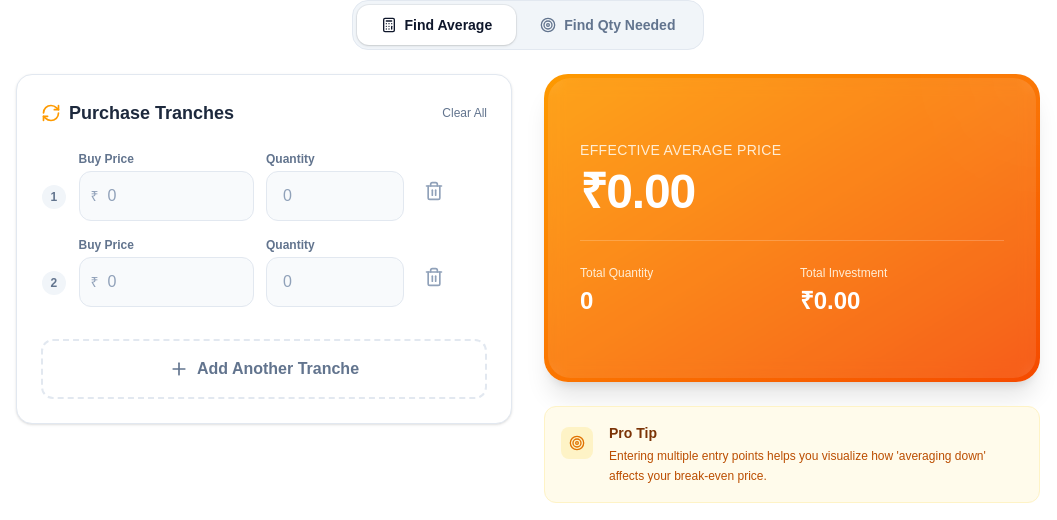
Test: StockAverageCalculator › switches to Target Averager mode
The image size is (1057, 520).
Step 1. Click the button "Find Qty Needed" → (608, 25), box [516,5,699,45]
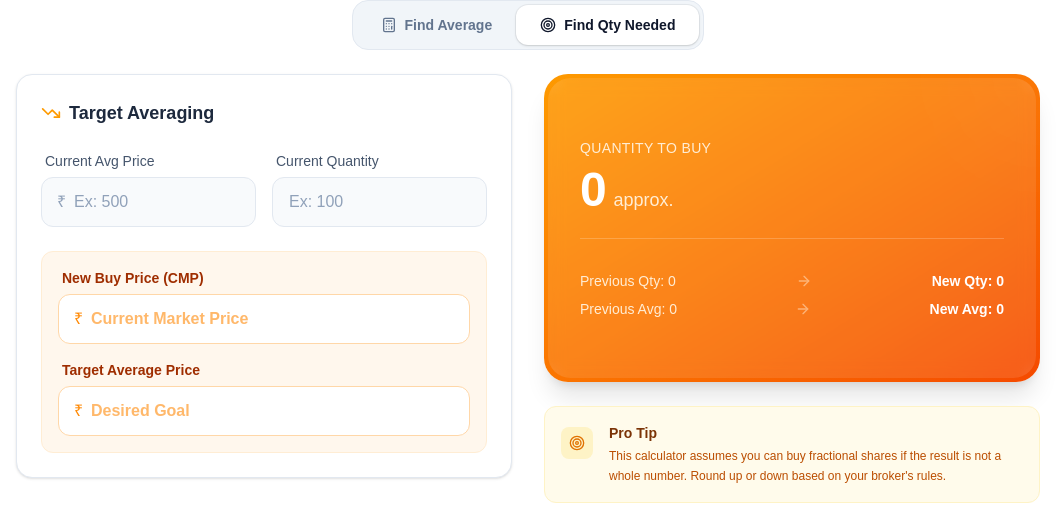
Check: the heading "Target Averaging" is shown, box [41,103,214,123]
Check: the text "Quantity To Buy" is shown, box [580,140,711,156]
